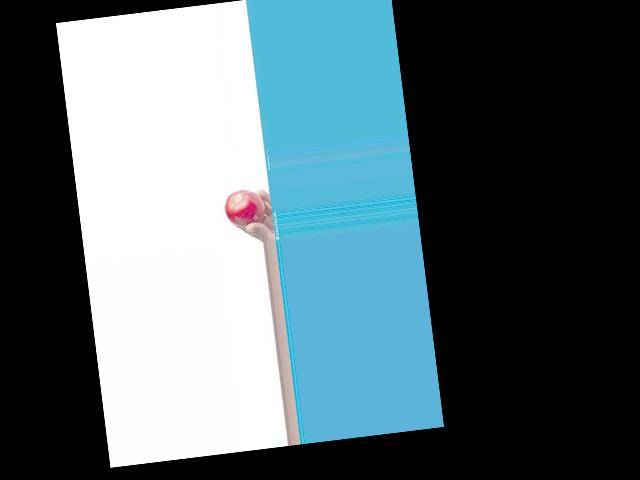tomato: (223, 187, 267, 229)
